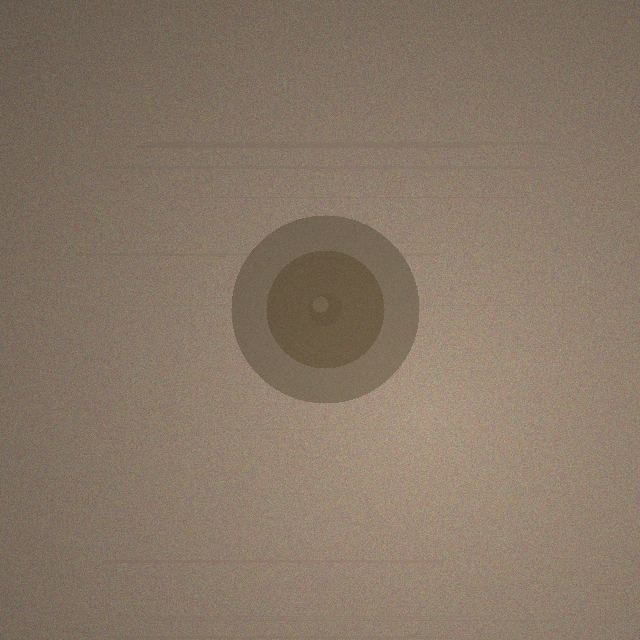good: (231, 215, 419, 403)
